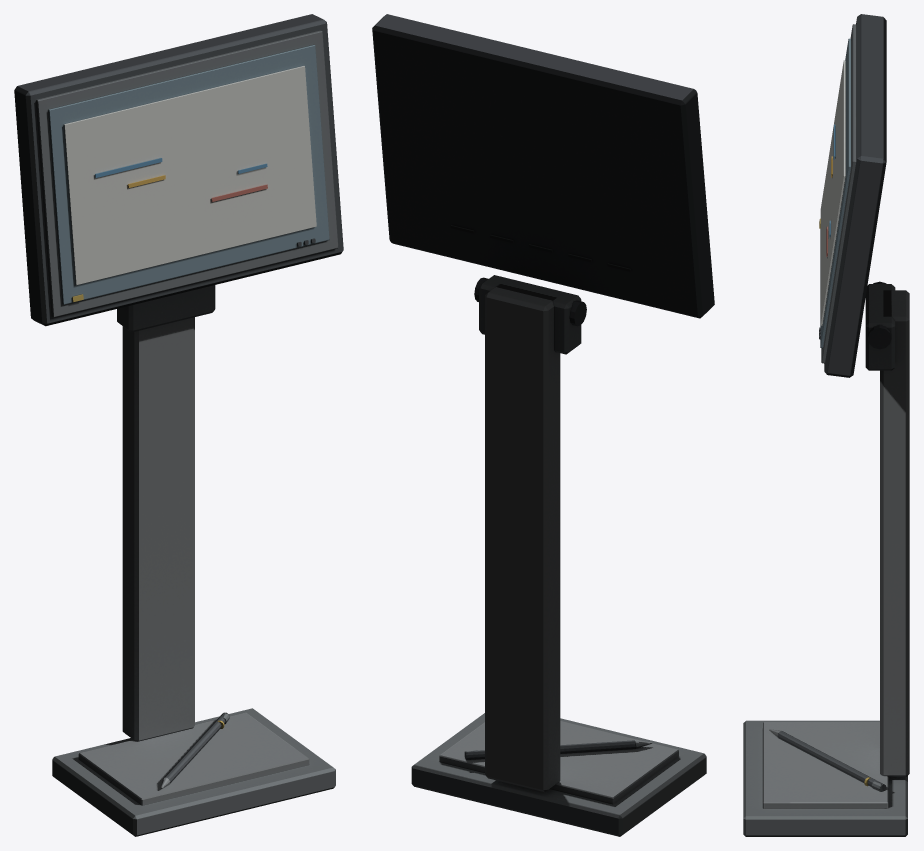
The model's file is 0-20261016-1900-ev017-r03-art-drawtablet_baked.glb.
3 views of the same model, side by side, from view 1: azimuth 30°, elevation 25°; view 2: azimuth 150°, elevation 25°; view 3: azimuth 270°, elevation 25° (orthographic). The views are drawn at different scales.
Visible parts, largest first — view 1: SW_Art_DrawTablet; view 2: SW_Art_DrawTablet; view 3: SW_Art_DrawTablet.
Part boxes in pixels (left/top/right/bottom): SW_Art_DrawTablet: left=14, top=14, right=343, bottom=836; SW_Art_DrawTablet: left=372, top=14, right=714, bottom=836; SW_Art_DrawTablet: left=743, top=14, right=909, bottom=836.
Size of the model in its own units: 0.52 by 1.19 by 0.2525.
1 material, 1 textured.
